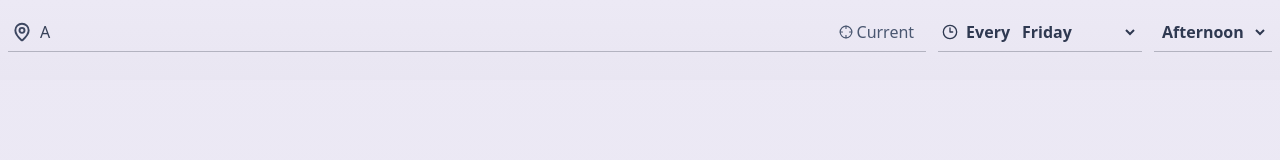
Scenario: MeetupControls › validates and blocks short location values
Click the field named "Location" at (431, 32), box [40, 20, 822, 44]
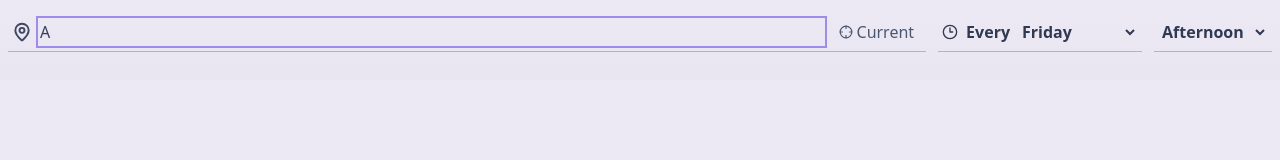
Press Enter
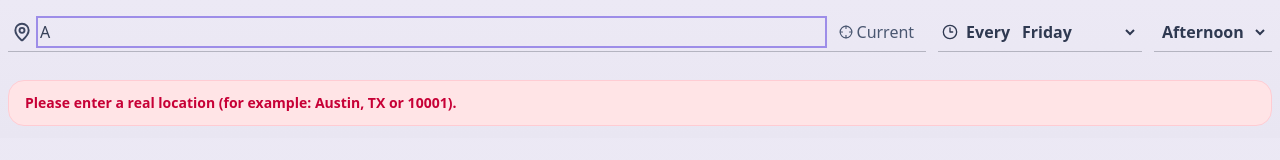
Check: the text "Please enter a real location" is shown, box [25, 93, 456, 112]
